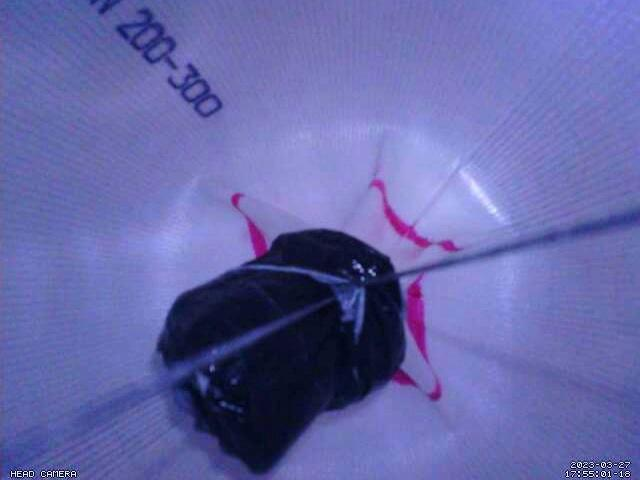red-circle: (230, 178, 460, 403)
